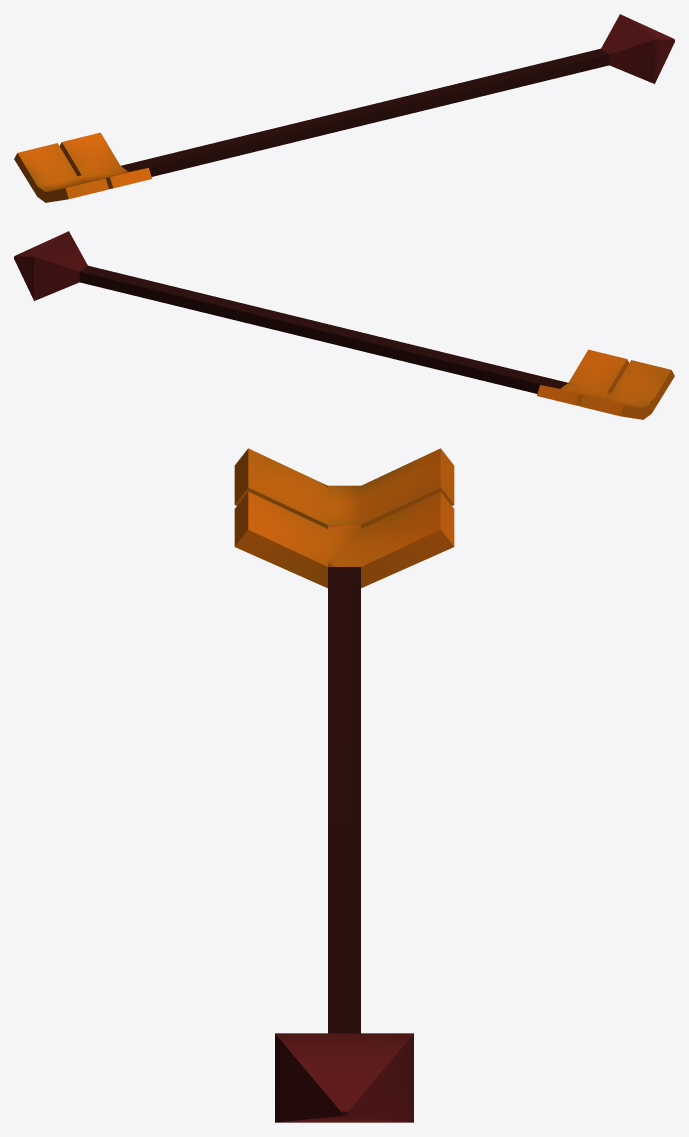
The model's file is arrow.fbx.
3 views of the same model, one above another, from view 1: azimuth 30°, elevation 25°; view 2: azimuth 150°, elevation 25°; view 3: azimuth 270°, elevation 25° (orthographic). The views are drawn at different scales.
Visible parts, largest first — view 1: arrow:pCube1; view 2: arrow:pCube1; view 3: arrow:pCube1.
Boxes of the visible parts, x1,y1,x2,y2 form: arrow:pCube1: (14,14,674,202); arrow:pCube1: (14,231,674,419); arrow:pCube1: (234,448,454,1122).
Bounding box in the file's own units: 6.24 × 0.4375 × 0.9391.
